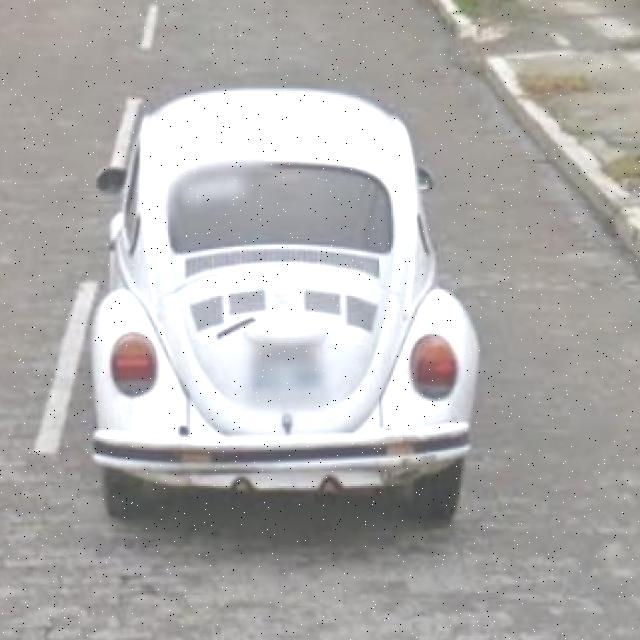car: (85, 80, 478, 512)
